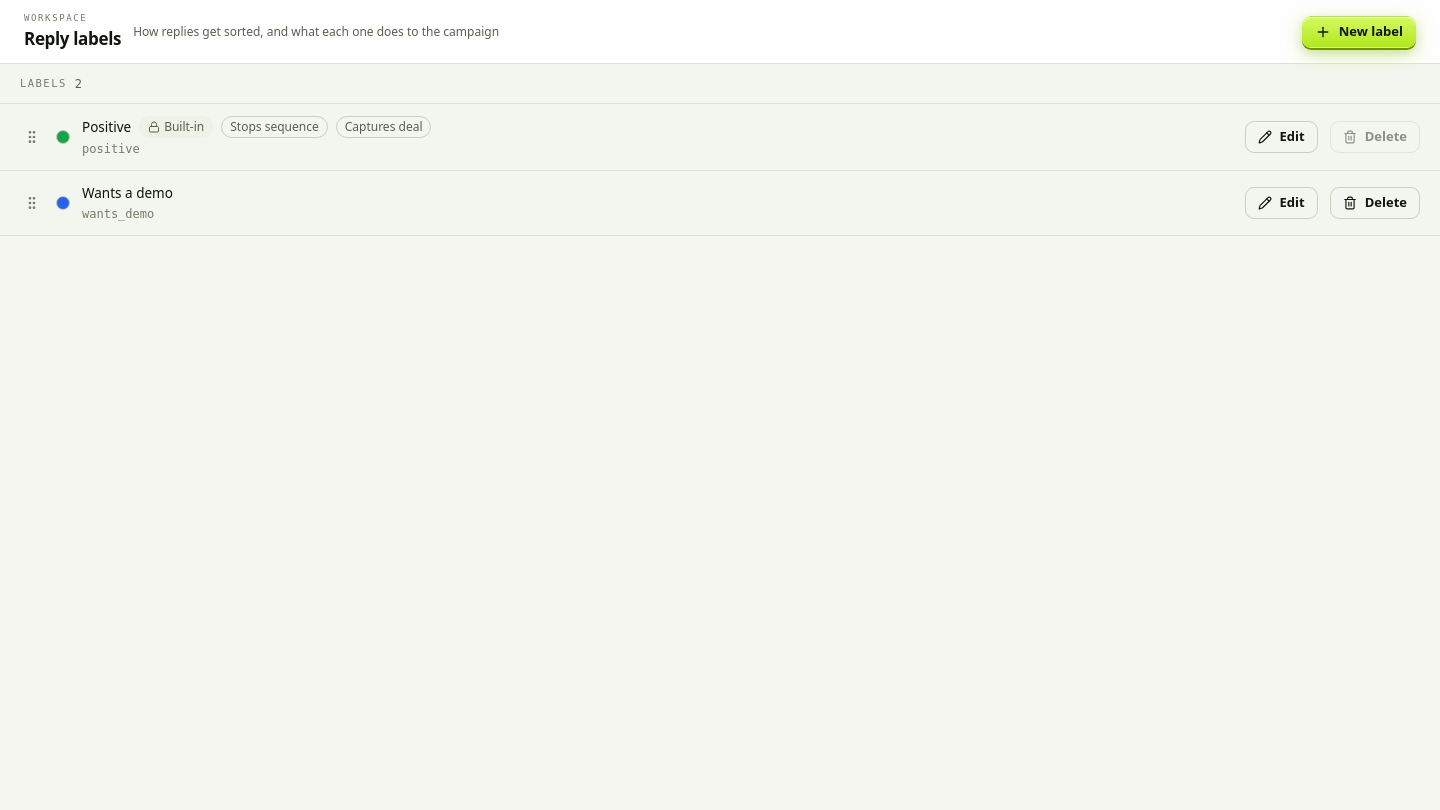
deleting a custom label asks for confirmation and surfaces a 409 in the banner
Click the button with aria-label "delete label wants a demo".
click(1375, 203)  # box [1330,187,1420,219]
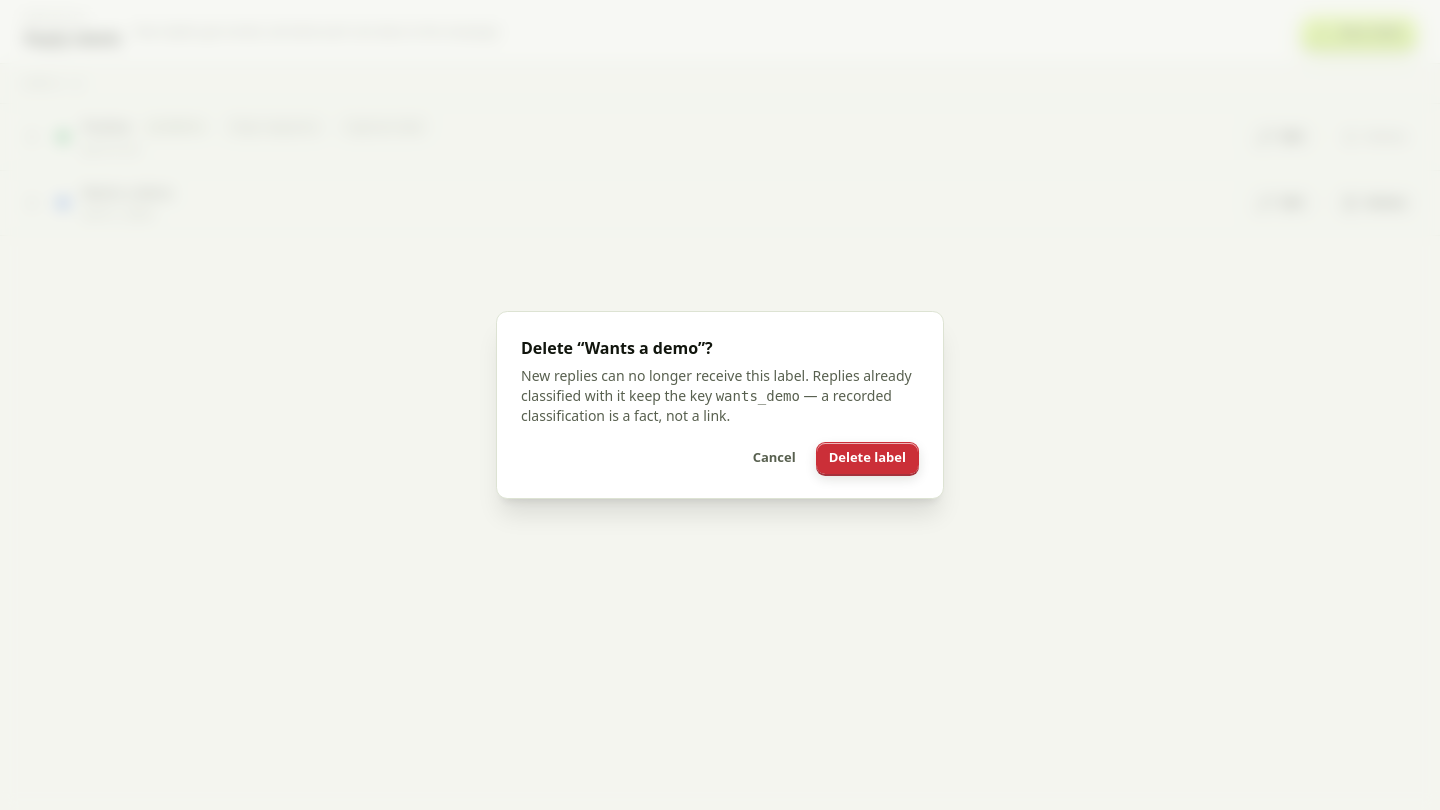
# Confirm dialog, then the destructive action.
Click the button "Delete label".
click(867, 458)  # box [816,442,919,474]
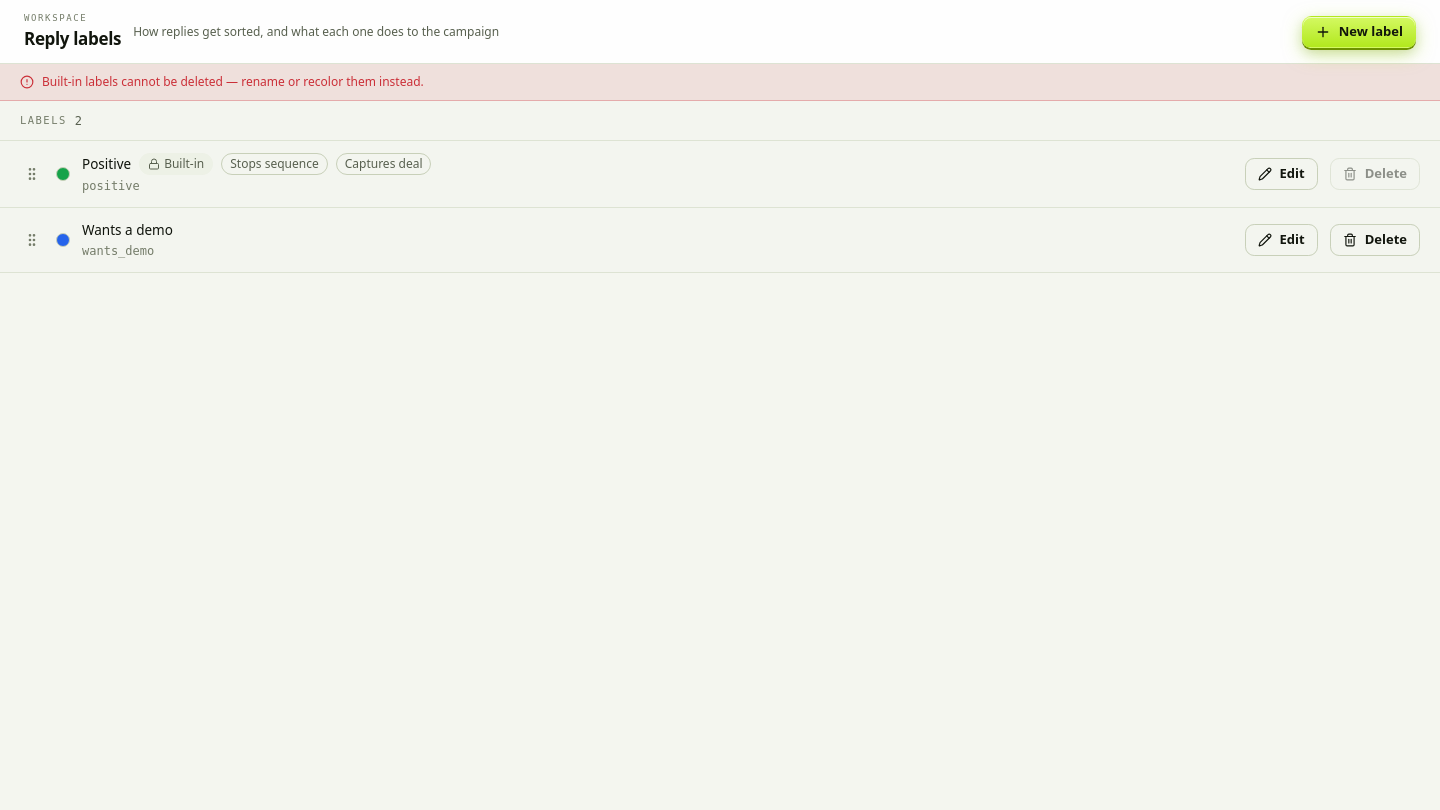
Result: the message shows "Built-in labels cannot be deleted" at [42,73,424,90]
Result: the button "Delete label" is gone
